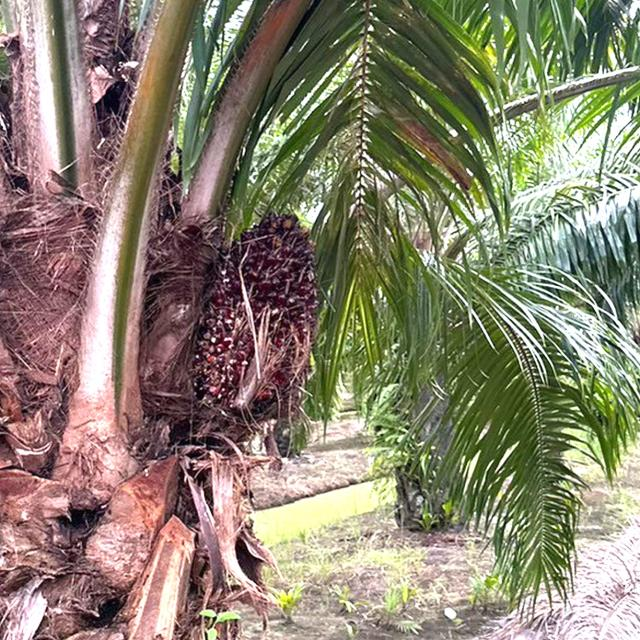ripe: (173, 196, 332, 437)
